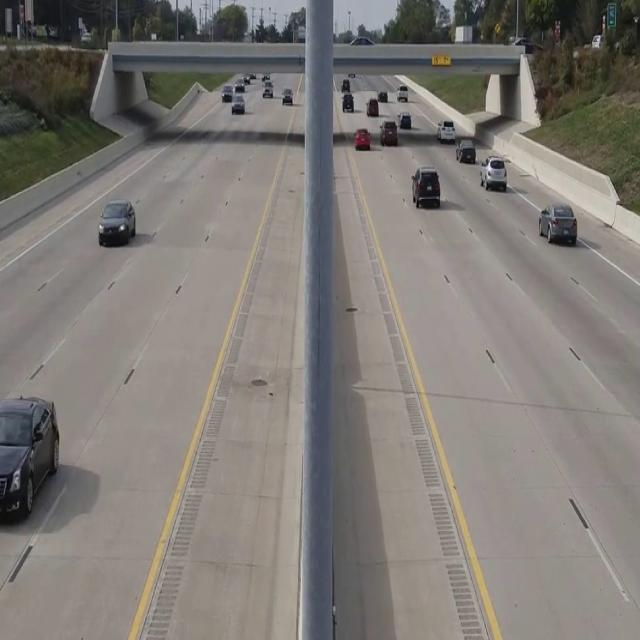car: (0, 394, 59, 521), (538, 202, 577, 245), (98, 199, 135, 244), (411, 168, 440, 207), (479, 154, 507, 190), (354, 128, 370, 150)
